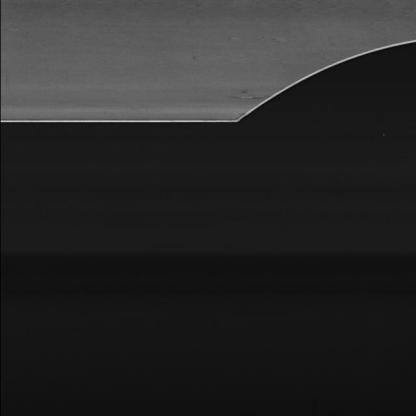crescent_gap: (210, 34, 416, 128)
